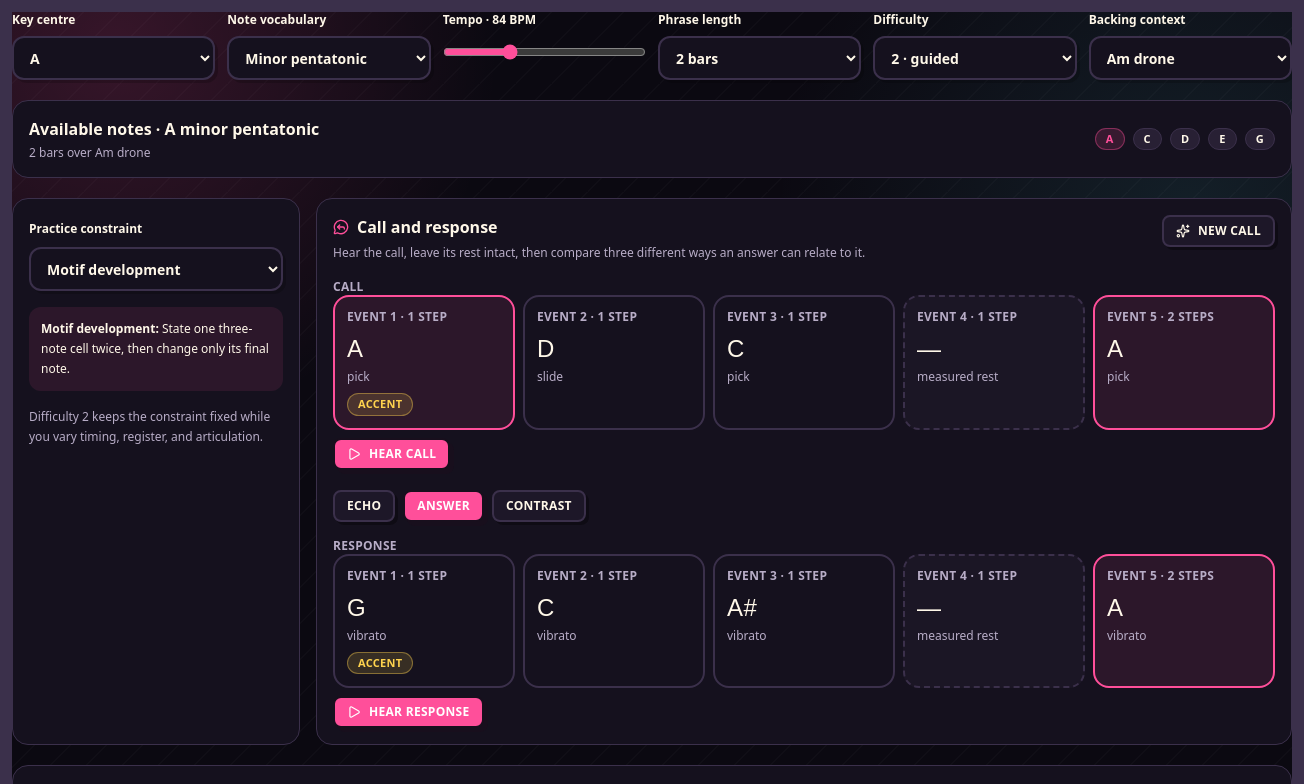
Test case: ImprovisationCoach › keeps a key-dependent backing context in sync with the key
Step 1. Select "C" in the dropdown labelled "Key centre" → [114, 58], box [12,36,215,80]
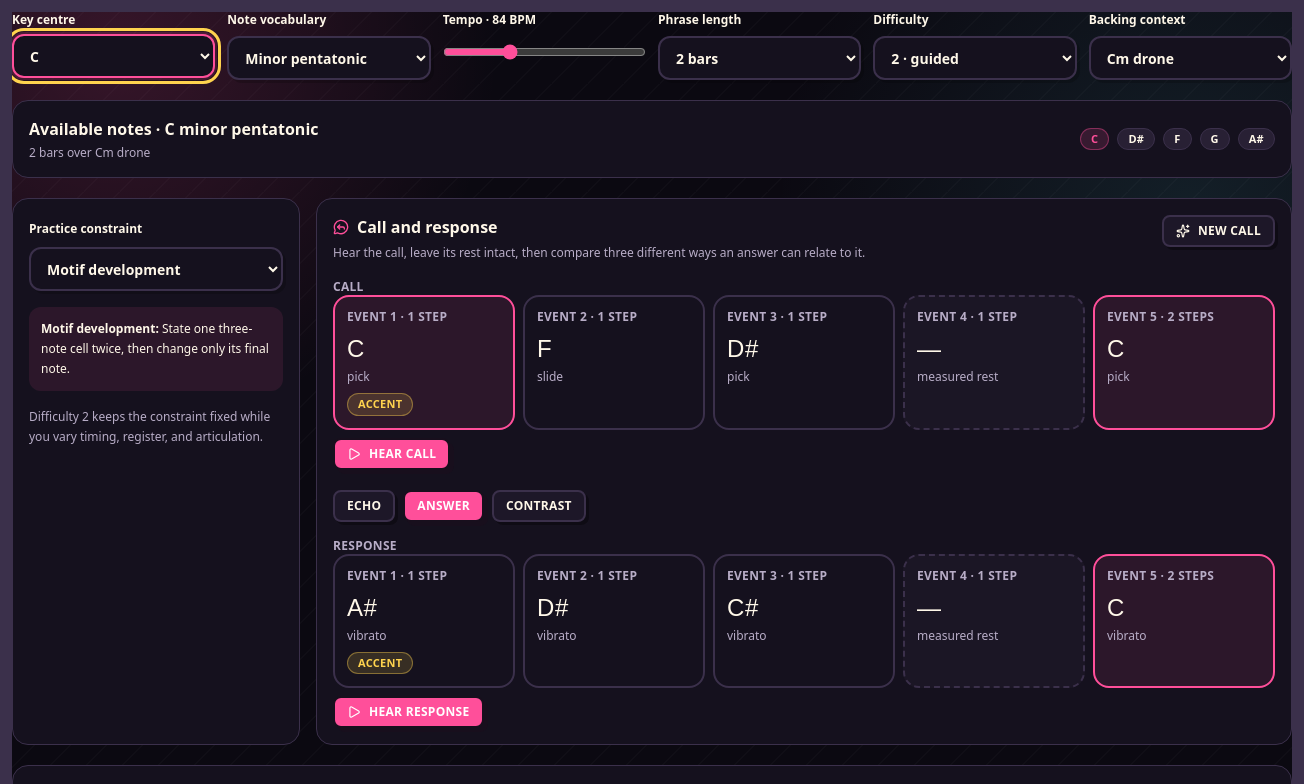
Result: the dropdown labelled "Backing context" shows "Cm drone" at [1089,36,1292,80]
Result: the text "2 bars over Cm drone" is shown at [29,144,150,161]
